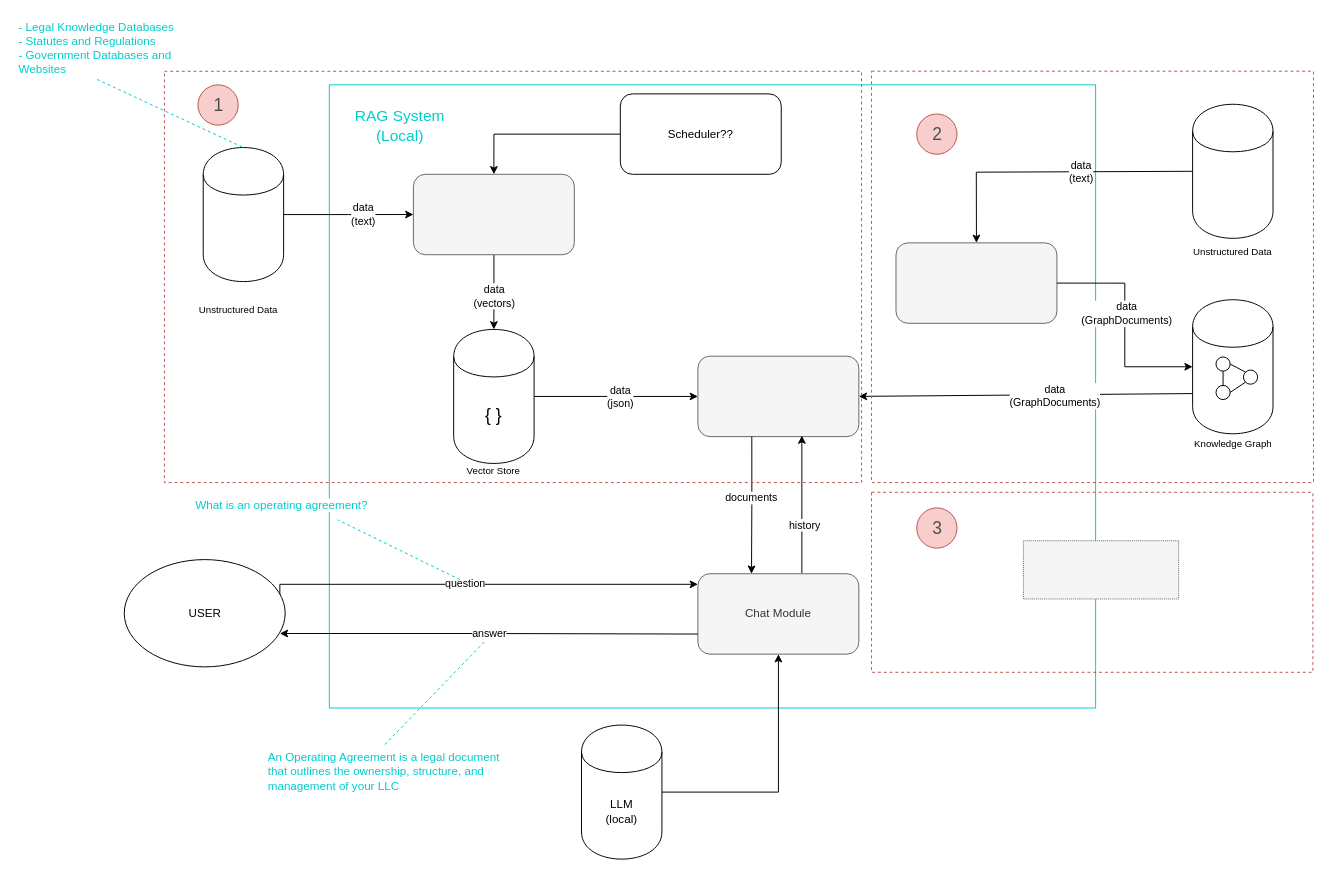
The diagram is 1331 pixels wide and 876 high, and some of its shapes have lost their labels. The shapes that lost their labels are listed below. From the top down, each one's centre as x and y in pixels, then its label:
At point (493, 214): "Indexer Module".
At point (976, 282): "Graph Transformer Module".
At point (778, 396): "Retriever Module".
At point (1100, 569): "CSV Indexer/ Data Frame Module (if needed)".
